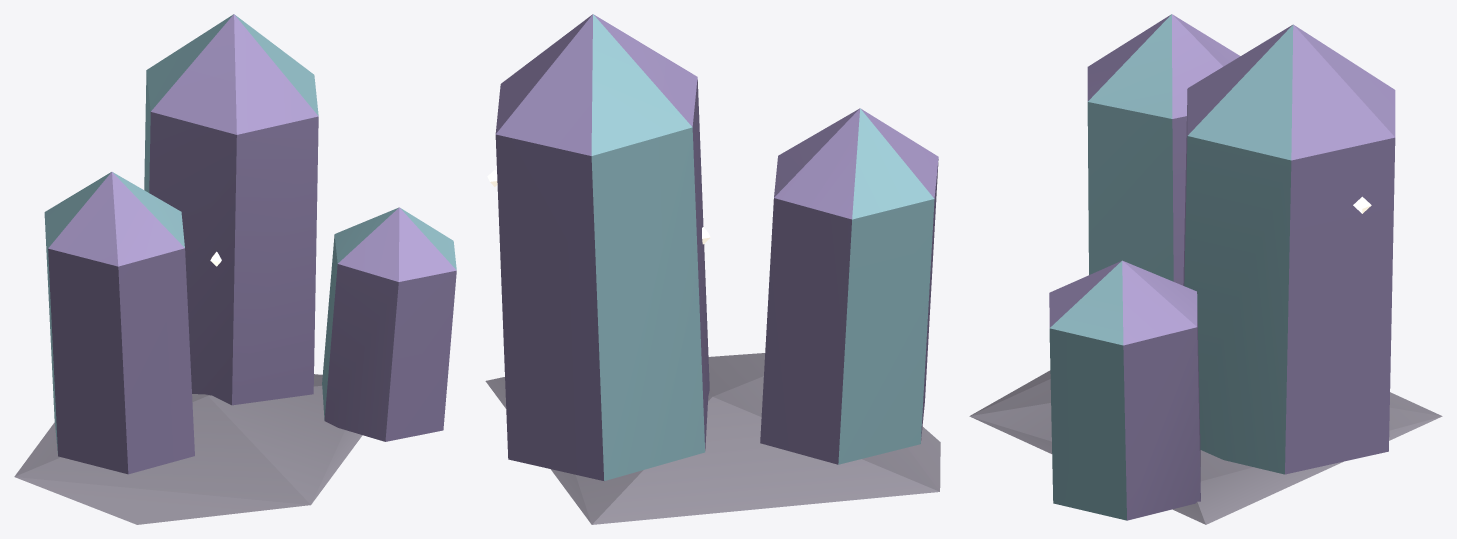
Rendered from ore_crystal_low.glb.
3 views of the same model, side by side, from view 1: azimuth 30°, elevation 25°; view 2: azimuth 150°, elevation 25°; view 3: azimuth 270°, elevation 25° (orthographic). The views are drawn at different scales.
Size of the model in its own units: 0.26 by 0.25 by 0.23.
